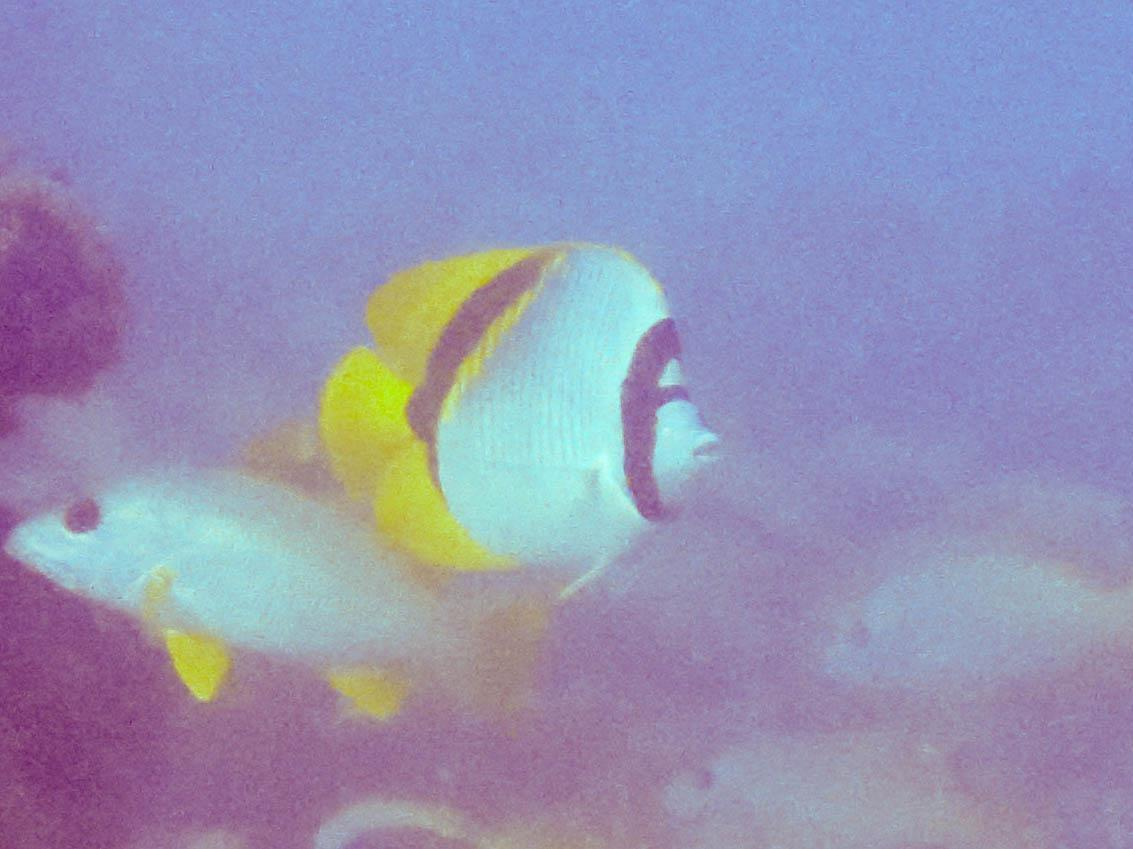Fish: (278, 164, 810, 634)
